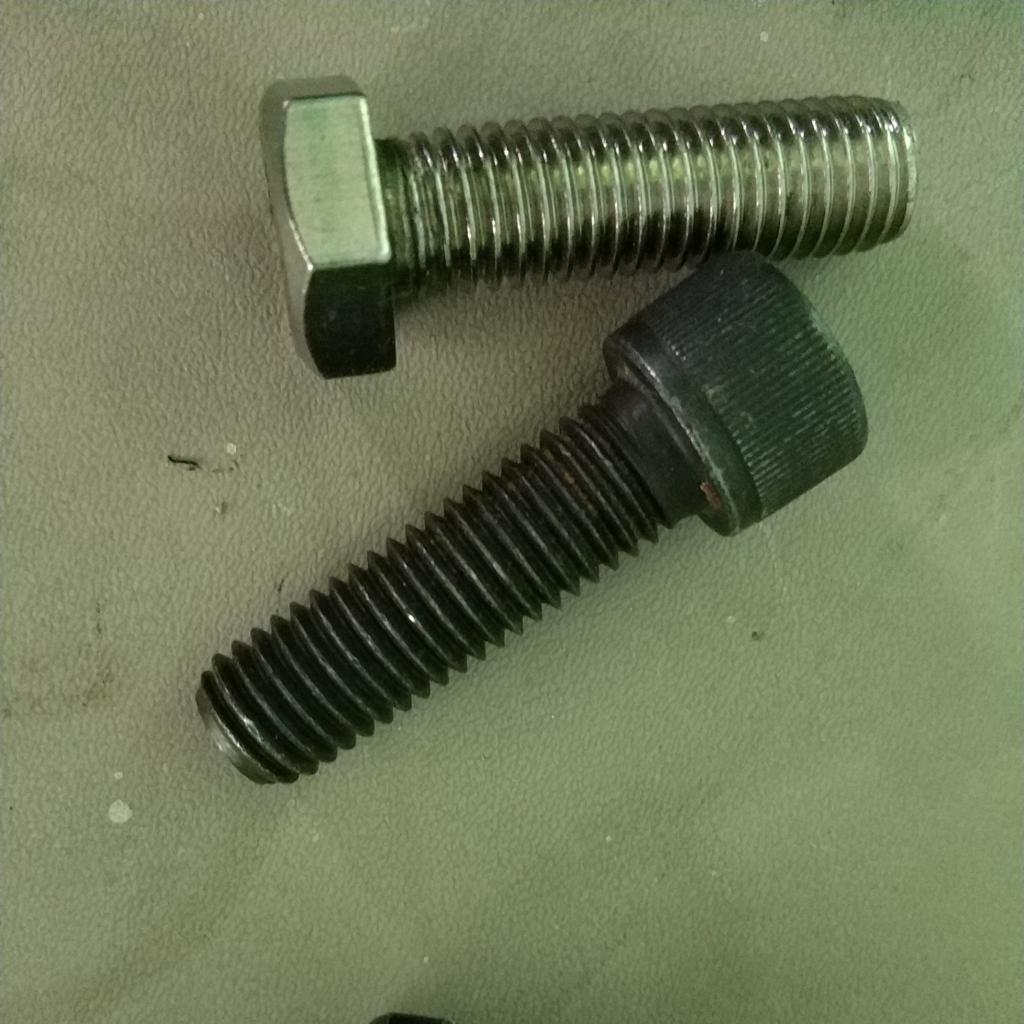screwtype1black: (567, 256, 880, 607)
screwtype2silver: (243, 66, 560, 410)
